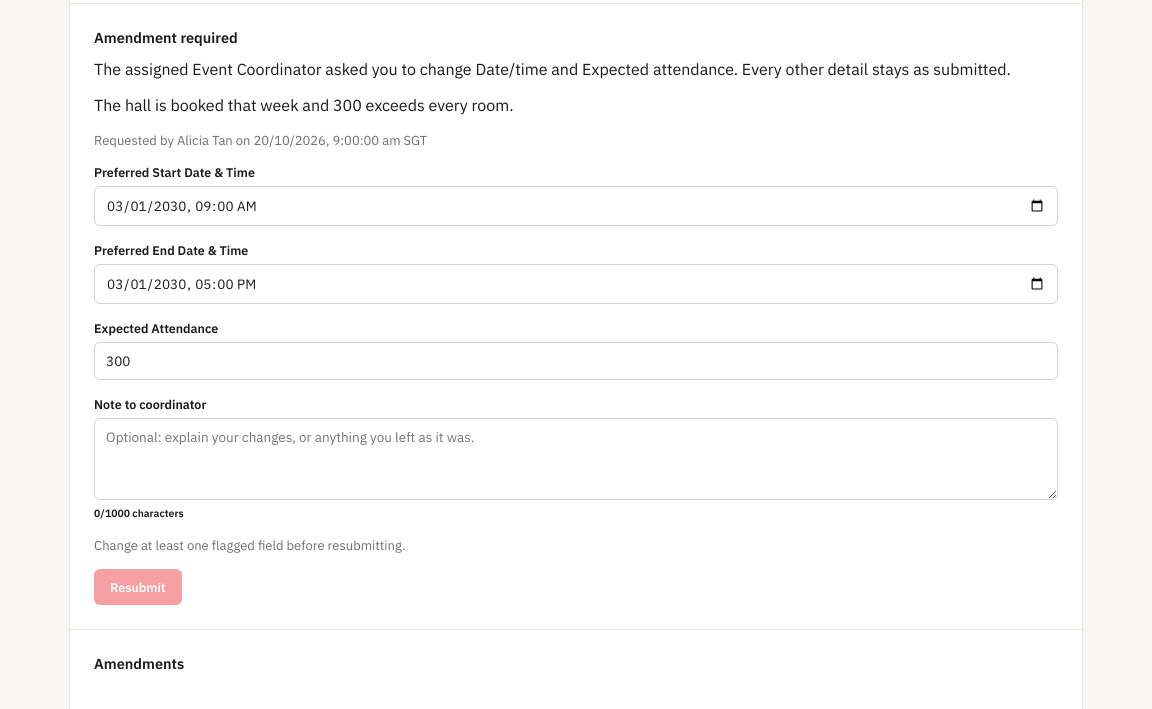
Test case: AC3: a locked-field refusal shows its message; an unexpected failure a generic one
(page scrolled)
Replace the text in the number field labelled "Expected Attendance" with "120": [576, 361] box [94,342,1058,380]
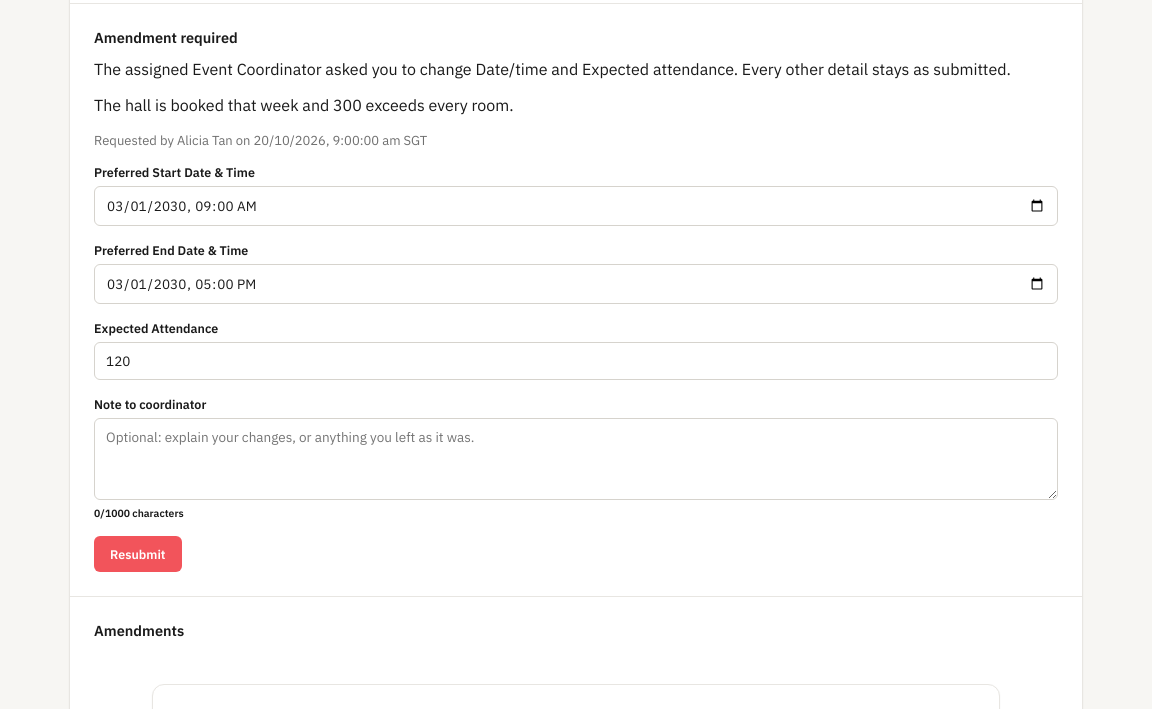
Click the button "Resubmit": [138, 554] box [94,536,182,572]
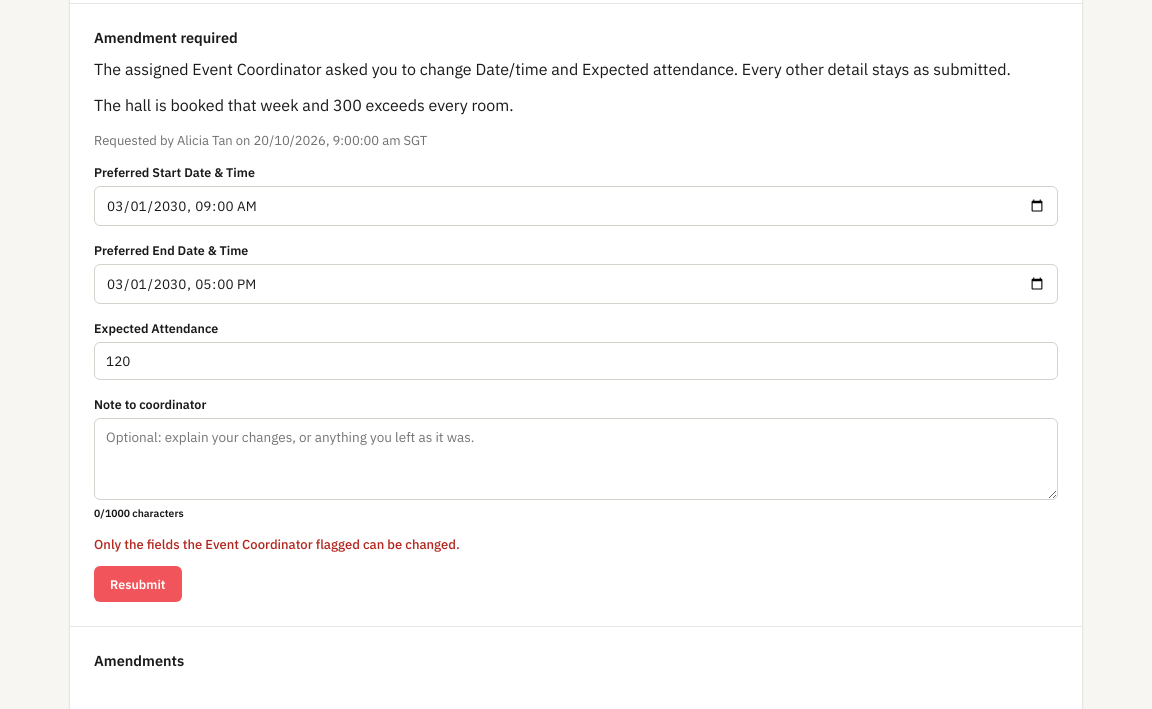
Expected: the message reads "Only the fields the Event Coordinator flagged can be changed.", [94,536,460,553]
Click the button "Resubmit": [138, 584] box [94,566,182,602]
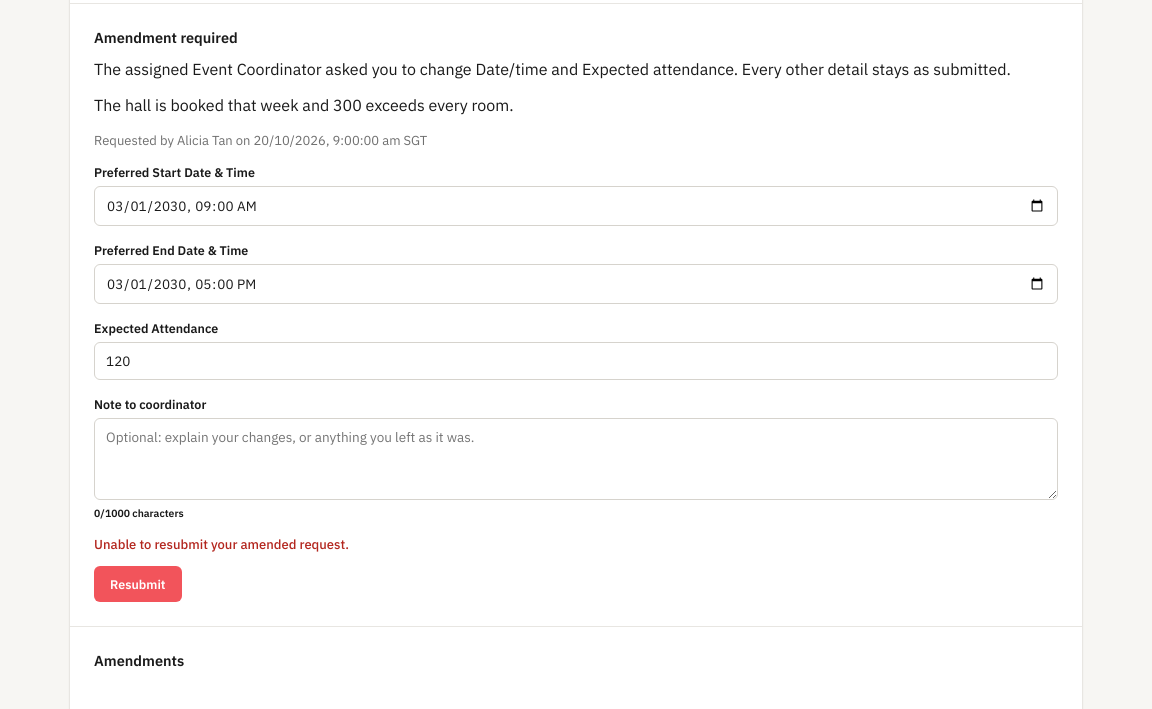
Expected: the message reads "Unable to resubmit your amended request.", [94,536,349,553]
